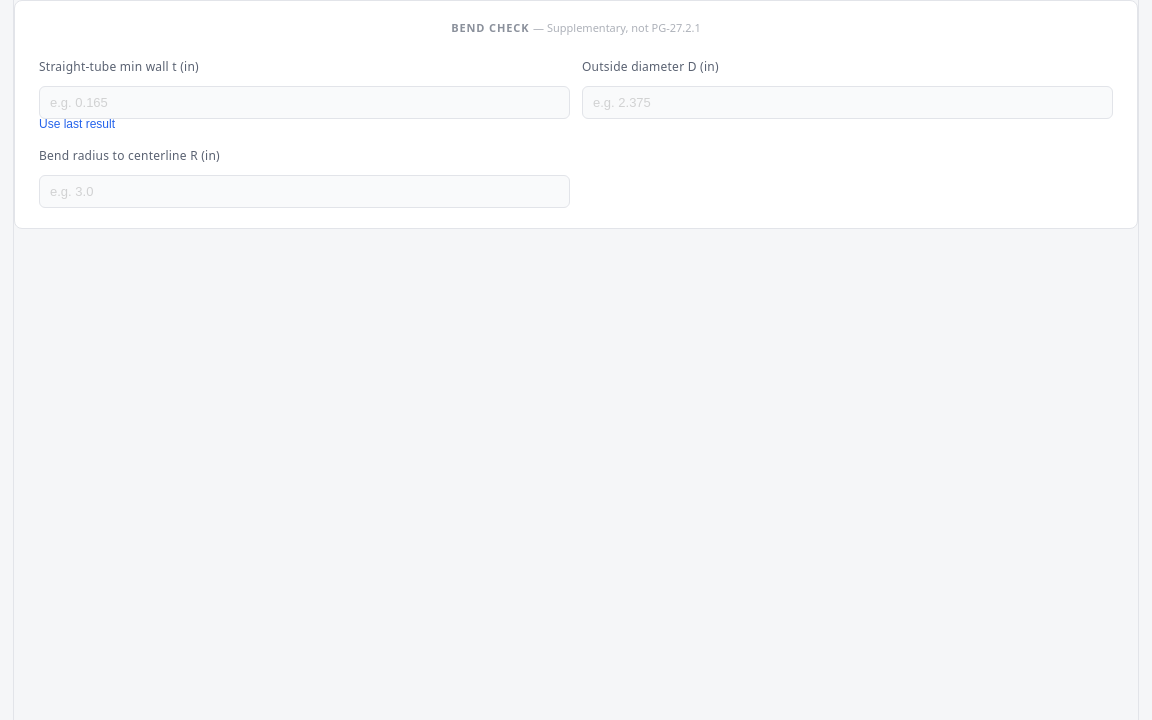
BendCalculator › "Use last result" is enabled and fills t when lastT is provided
Click the button "Use last result" at x=77, y=124, box top-left (39, 117), bottom-right (570, 131)
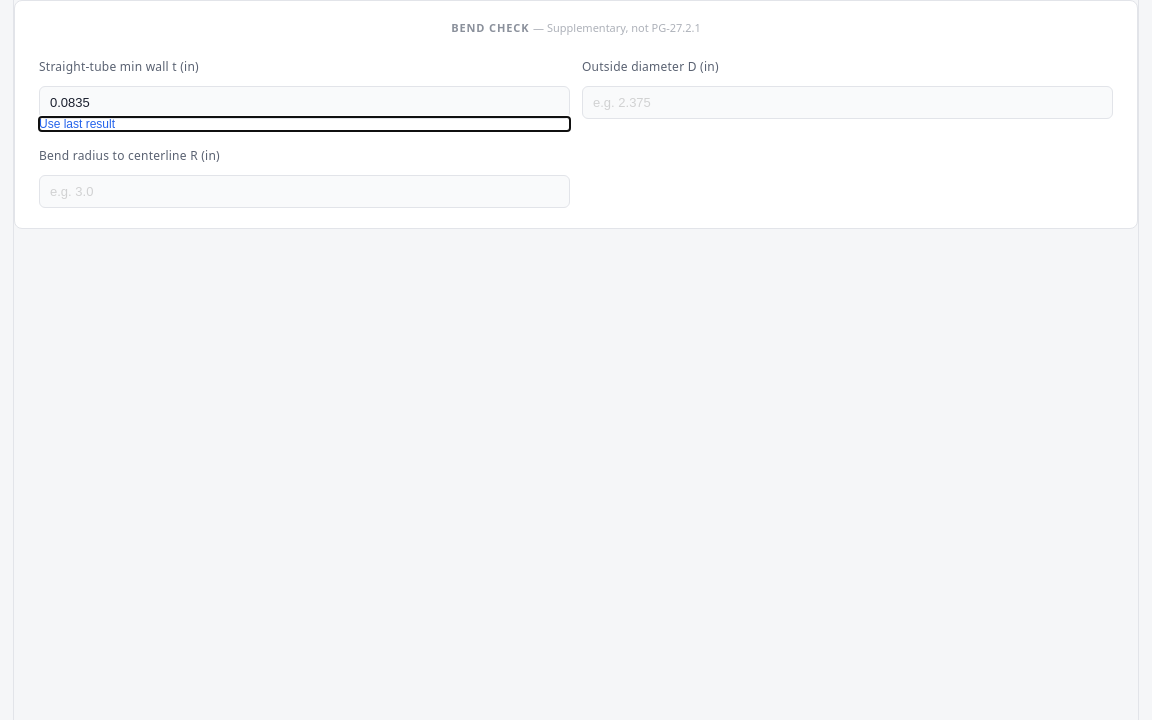
Result: the number field with placeholder "e.g. 0.165" holds "0.0835" at top-left (39, 86), bottom-right (570, 119)
